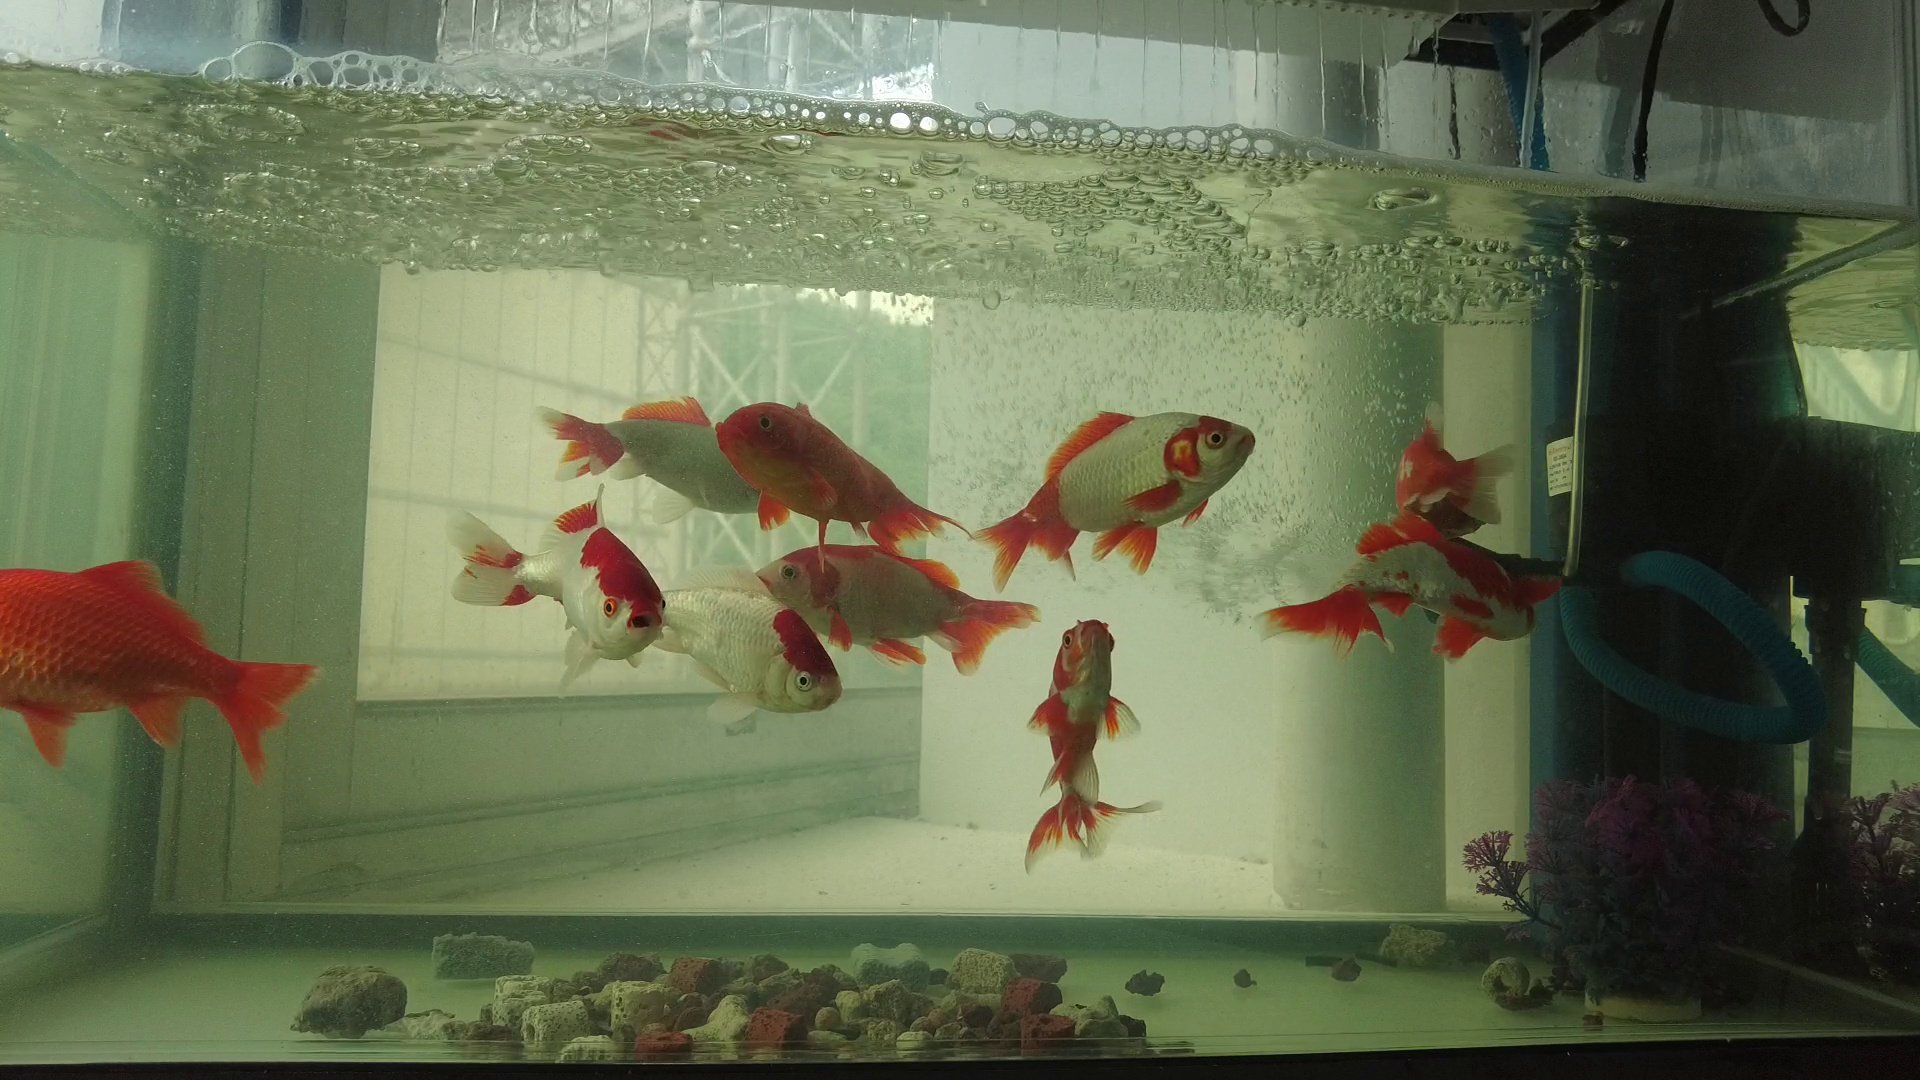fish: (7, 551, 334, 800), (1250, 397, 1530, 673), (968, 404, 1261, 599), (436, 475, 676, 690), (712, 396, 977, 576), (753, 538, 1046, 686), (1015, 611, 1170, 880), (1337, 502, 1568, 671), (647, 562, 851, 740), (527, 392, 791, 518)
